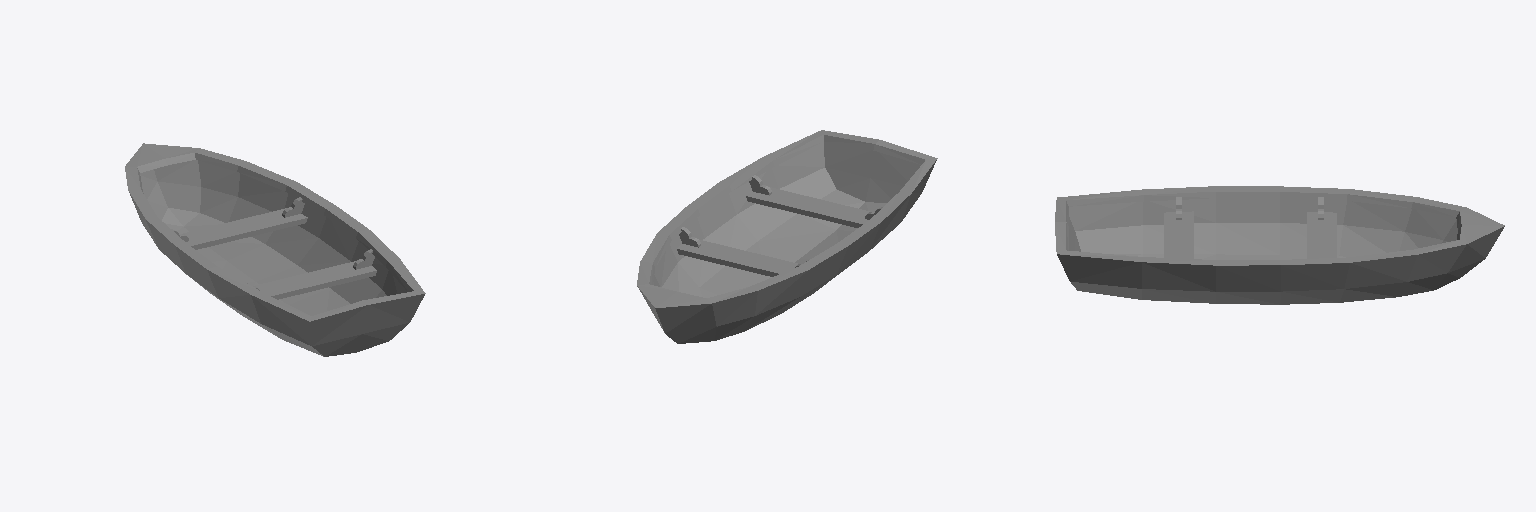
File: boat.obj
3 renders of one model, left to right at view 1: azimuth 30°, elevation 25°; view 2: azimuth 150°, elevation 25°; view 3: azimuth 270°, elevation 25°, orthographic.
Parts seen in each view (by area): view 1: Boat-ver1; view 2: Boat-ver1; view 3: Boat-ver1.
Boxes of the visible parts, box(x1,y1,x2,y2) form: Boat-ver1: box(125, 143, 425, 356); Boat-ver1: box(637, 130, 937, 343); Boat-ver1: box(1055, 186, 1504, 304).
Size of the model in its own units: 0.0329 by 0.013 by 0.0789.